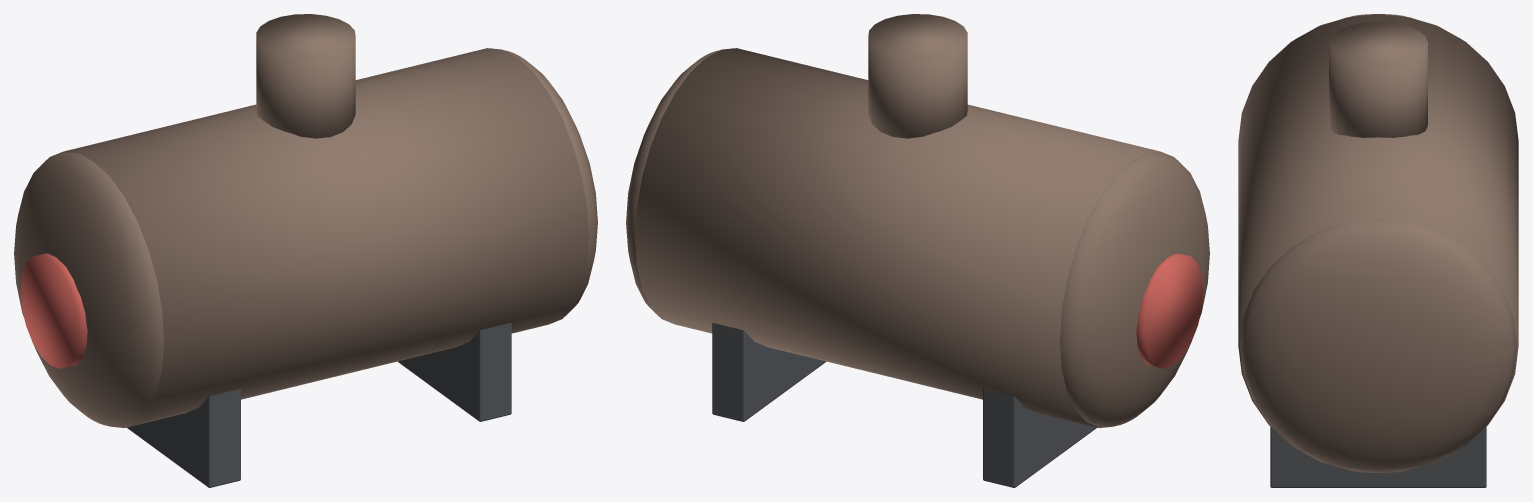
File: boiler_industrial.glb
The picture shows the model from 3 angles, left to right: view 1: azimuth 30°, elevation 25°; view 2: azimuth 150°, elevation 25°; view 3: azimuth 270°, elevation 25°; orthographic projection.
Parts seen in each view (by area): view 1: BoilerTank, Cap_-1.16, SteamDome, Cradle_0.75, Cradle_-0.75, Hatch, Cap_1.16; view 2: BoilerTank, Cap_-1.16, SteamDome, Cradle_0.75, Cradle_-0.75, Hatch, Cap_1.16; view 3: Cap_1.16, BoilerTank, SteamDome, Cradle_0.75.
Boxes of the visible parts, x1,y1,x2,y2 form: BoilerTank: (48,48,588,427); Cap_-1.16: (14,152,163,427); SteamDome: (256,14,355,138); Cradle_0.75: (397,323,511,421); Cradle_-0.75: (127,389,240,487); Hatch: (20,253,87,368); Cap_1.16: (491,48,597,316); BoilerTank: (635,48,1175,427); Cap_-1.16: (1060,152,1209,427); SteamDome: (868,14,967,138); Cradle_0.75: (712,323,826,421); Cradle_-0.75: (983,389,1096,487); Hatch: (1136,253,1203,368); Cap_1.16: (626,48,732,316); Cap_1.16: (1239,219,1517,472); BoilerTank: (1238,14,1518,469); SteamDome: (1329,21,1427,137); Cradle_0.75: (1270,427,1486,487).
Bounding box in the file's own units: 2.82 × 2 × 1.36.
